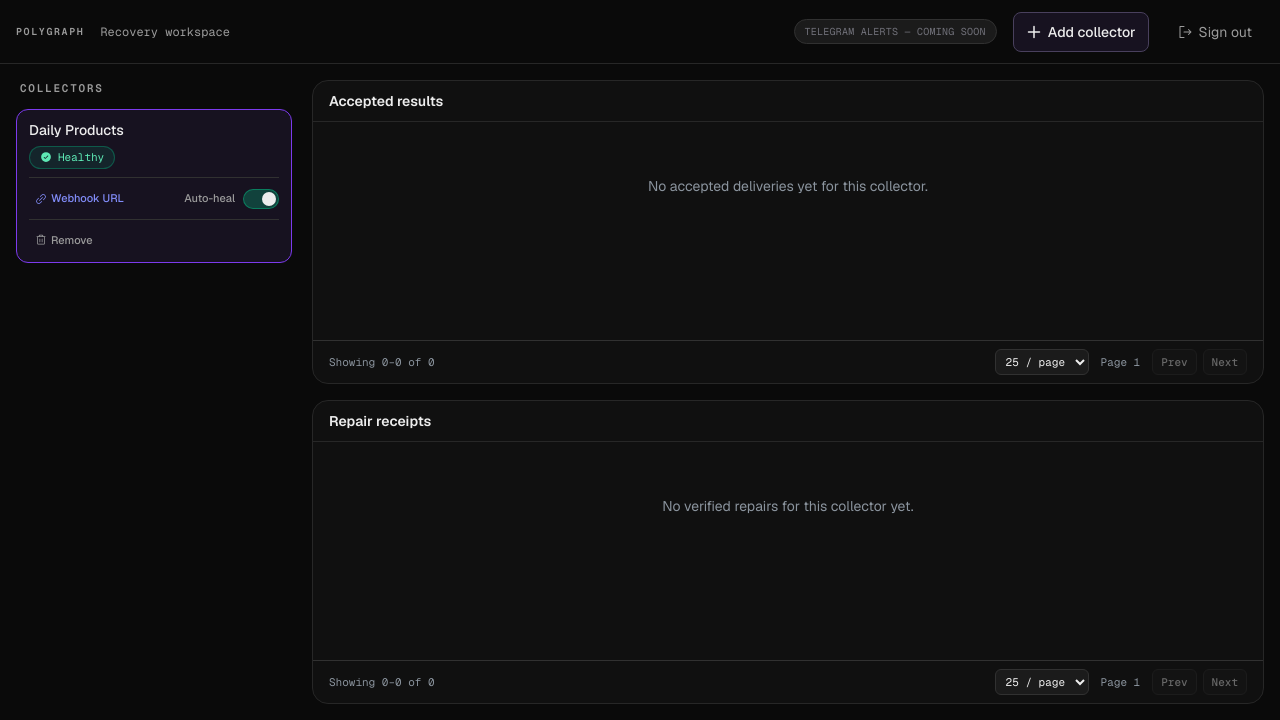
RecoveryWorkspace — remove collector › asks for a confirm that says the webhook URL dies and the receipts do not
Click the button with aria-label "Remove Daily Products". click: (64, 240)
box: left=29, top=228, right=98, bottom=252
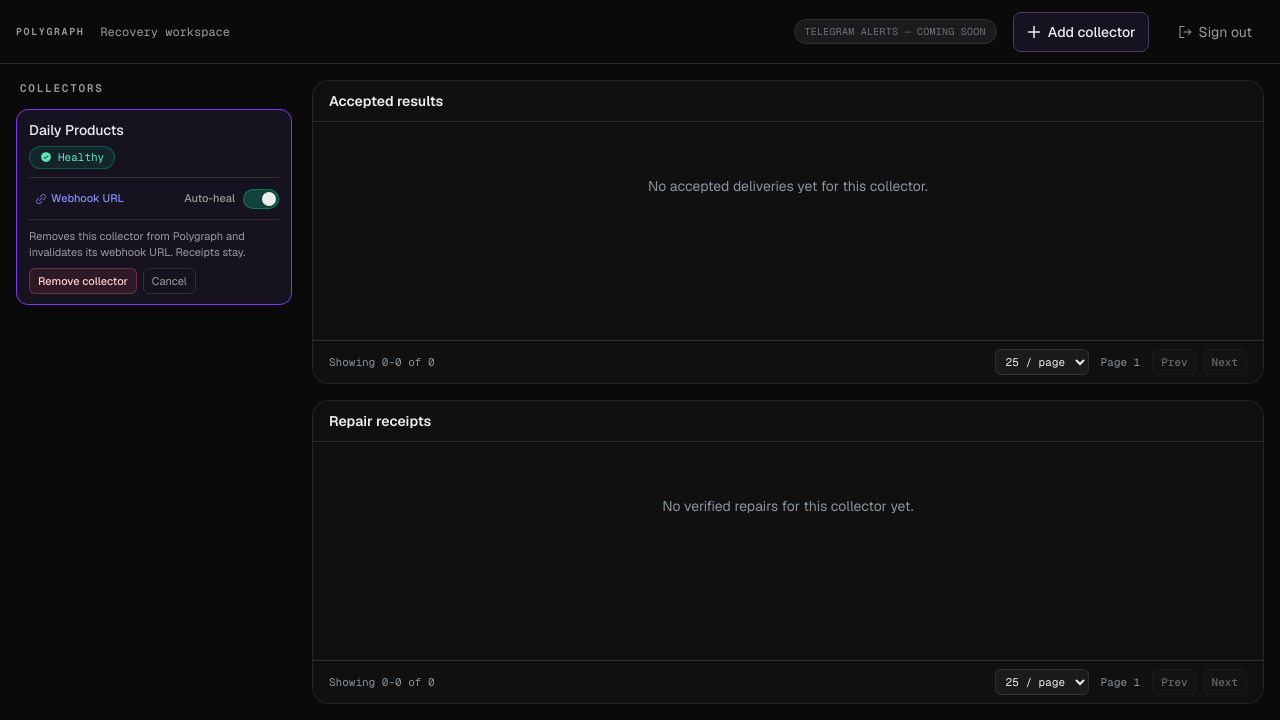
expect the text "Removes this collector from Polygraph and invalidates its webhook URL. Receipts stay." is shown: met, box left=29, top=229, right=245, bottom=259
